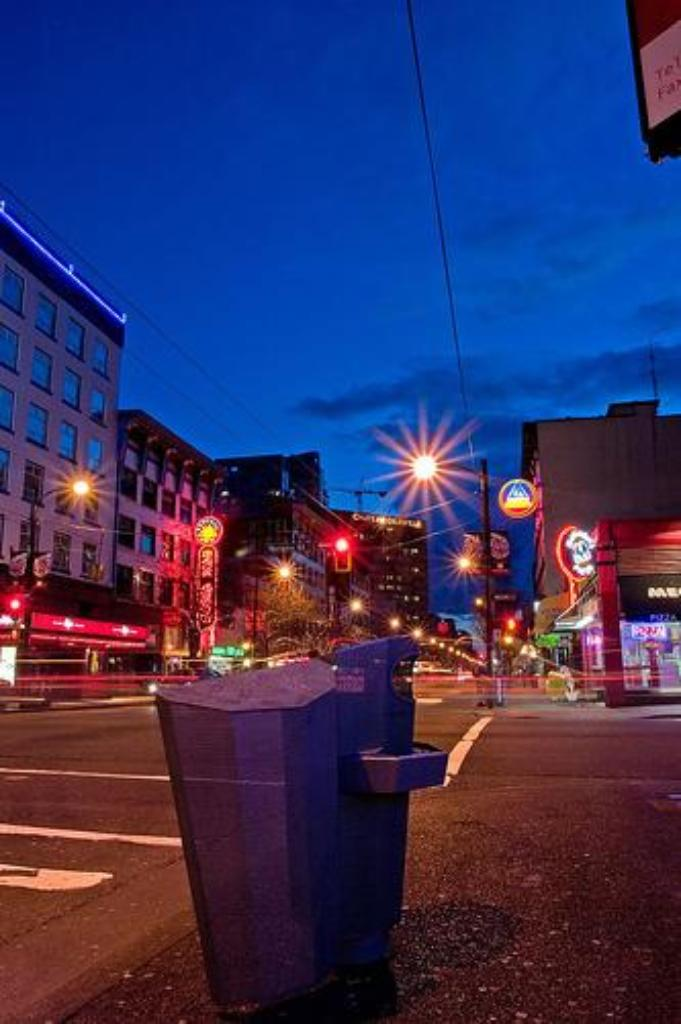dustbin: (156, 625, 460, 970)
